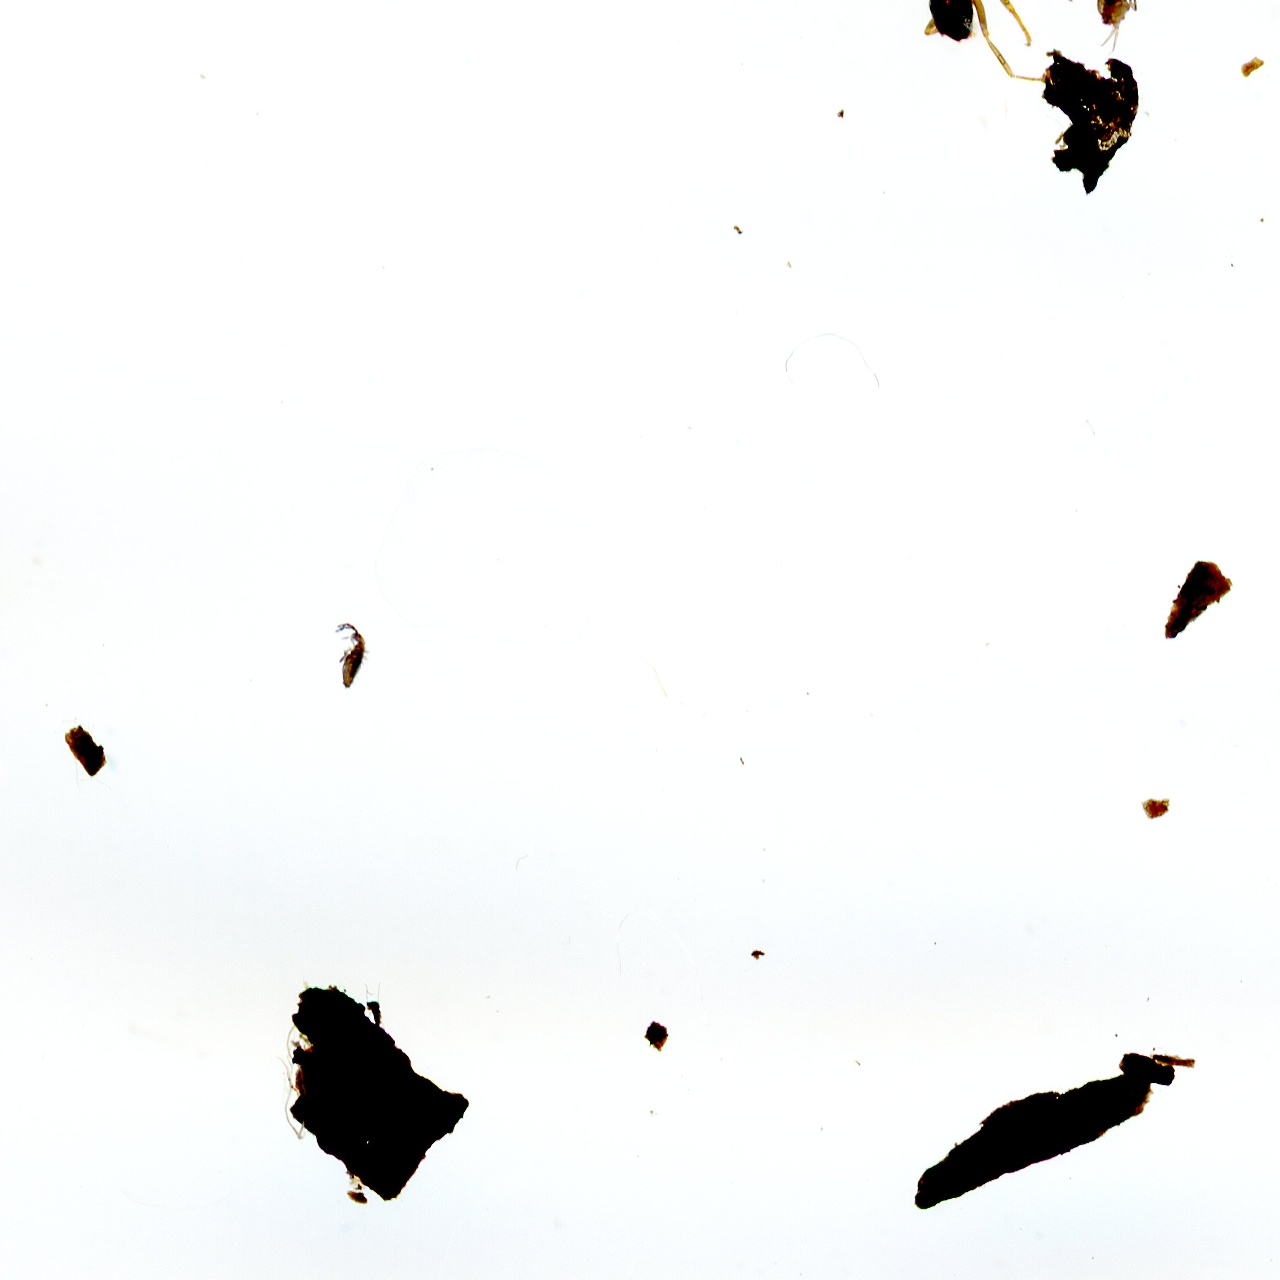arthropod: (920, 0, 1078, 89), (1085, 0, 1146, 59), (332, 620, 374, 704)
